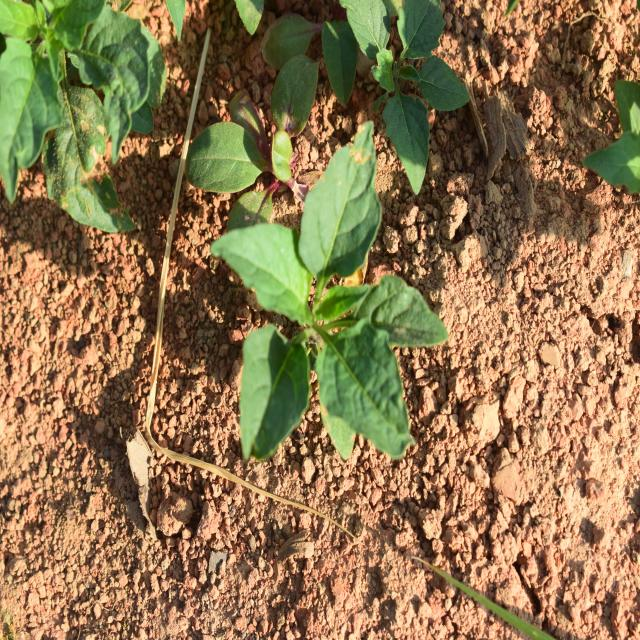Black_nightshade: (198, 132, 439, 493)
